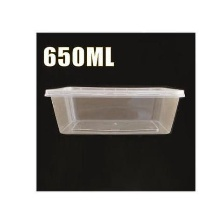plastic_box: (39, 77, 189, 140)
